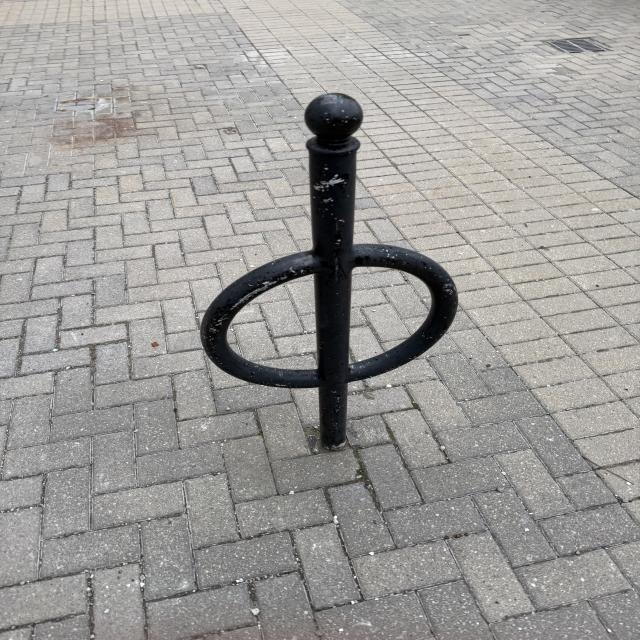Bicycle Rack: (201, 94, 460, 446)
